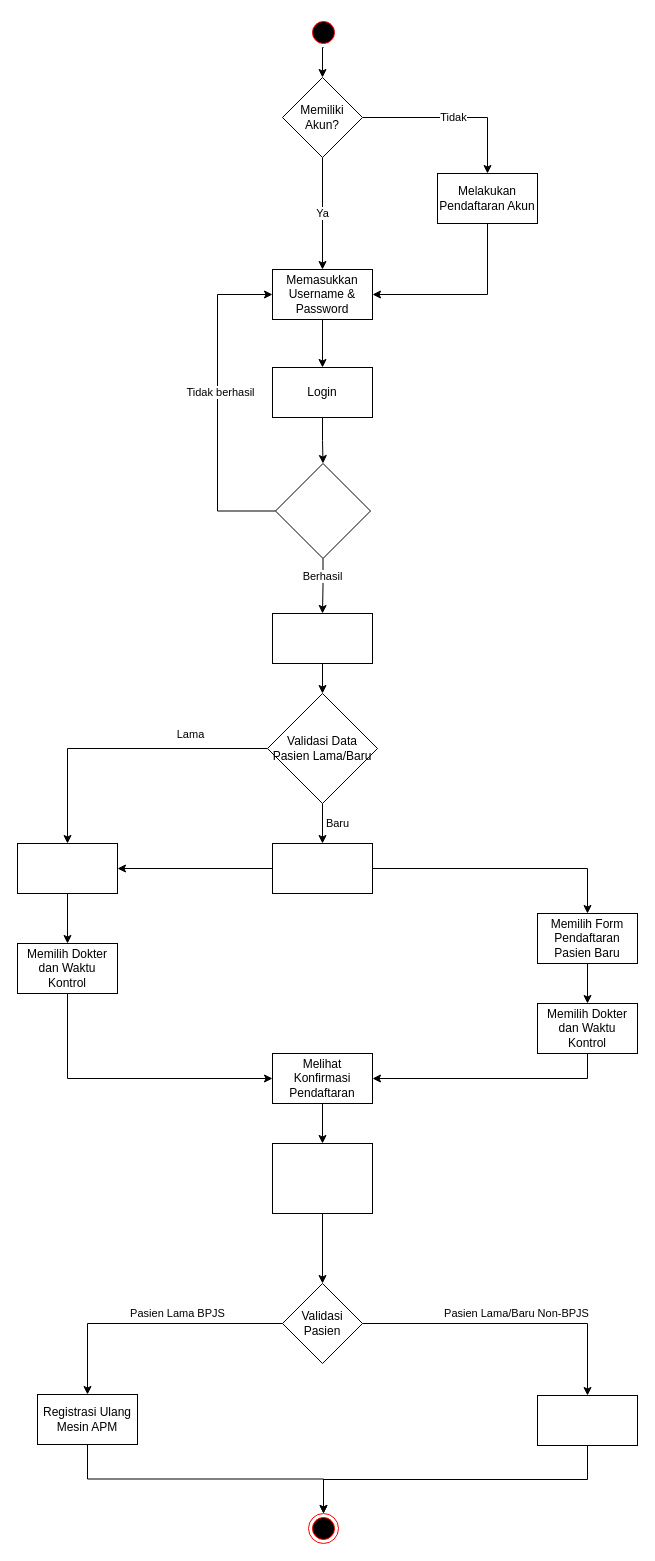
The diagram is 655 pixels wide and 1561 high, and some of its shapes have lost their labels. The centre of each missing label's shape, as x and y in pixels:
Halaman Utama: [322,638]
Melengkapi Data: [322,868]
Memilih Form Pendaftaran Pasien Lama: [67,868]
Menerima Email/Whatsapp Konfirmasi Pendaftaran: [322,1178]
Registrasi Ulang Loket Online: [587,1420]
Validasi Username & Password: [322,510]
